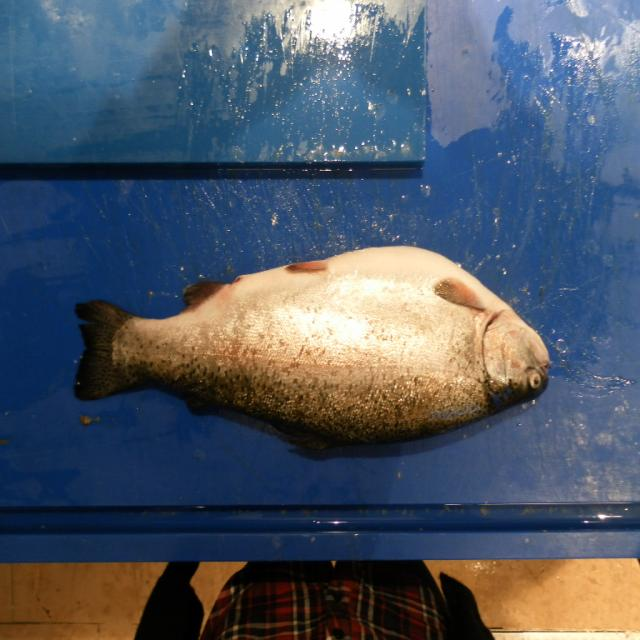Trout-alabalik-: (72, 246, 551, 450)
